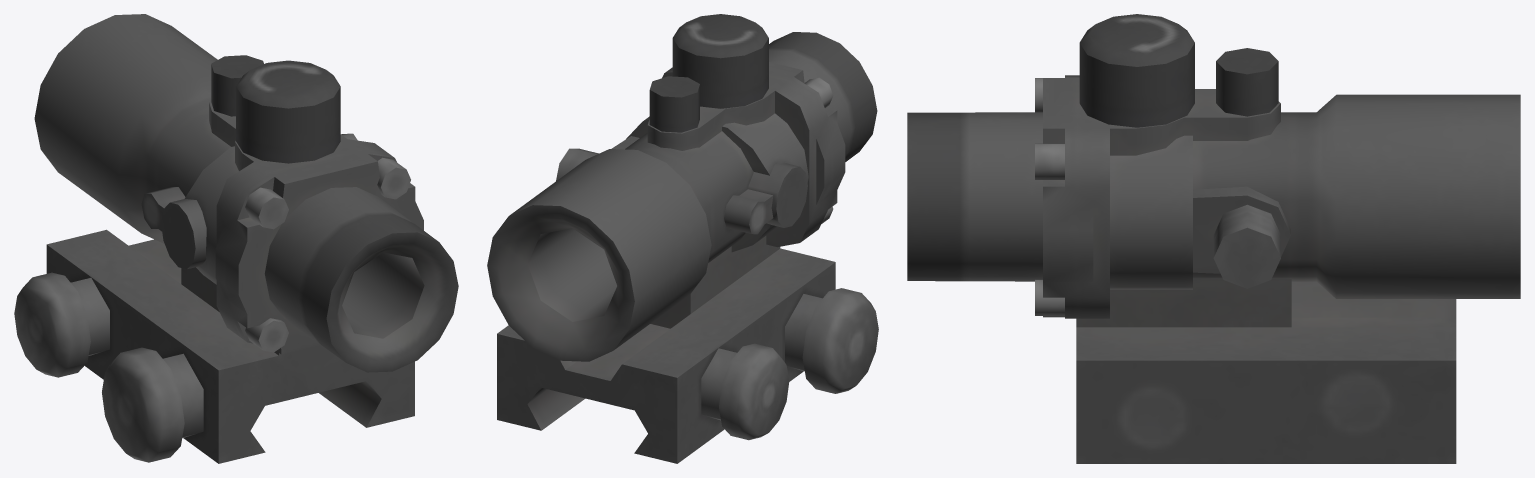
The model's file is IG_Acc_Scope_AR_4X_1.fbx.
3 renders of one model, left to right at view 1: azimuth 30°, elevation 25°; view 2: azimuth 150°, elevation 25°; view 3: azimuth 270°, elevation 25°, orthographic. The views are drawn at different scales.
Visible parts, largest first — view 1: Scope_AR_4X_1; view 2: Scope_AR_4X_1; view 3: Scope_AR_4X_1.
Boxes of the visible parts, x1,y1,x2,y2 form: Scope_AR_4X_1: [14, 14, 458, 463]; Scope_AR_4X_1: [487, 14, 878, 463]; Scope_AR_4X_1: [907, 14, 1520, 463].
Size of the model in its own units: 0.1215 by 0.1506 by 0.2166.
